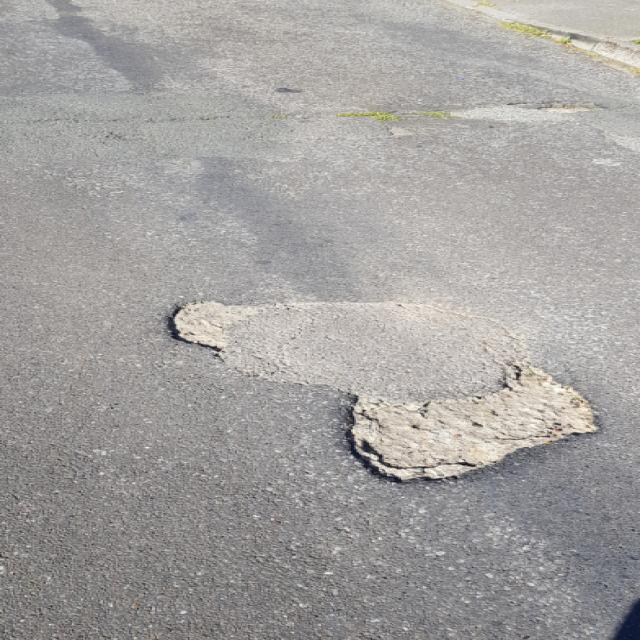pothole: (334, 357, 604, 484), (163, 294, 261, 354)
